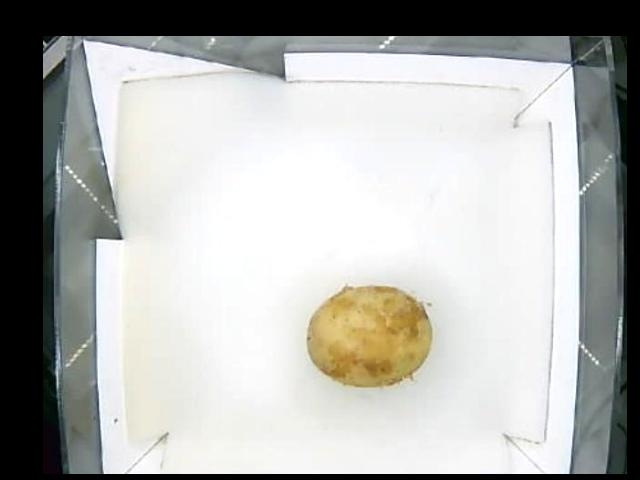Potato: (303, 283, 431, 388)
